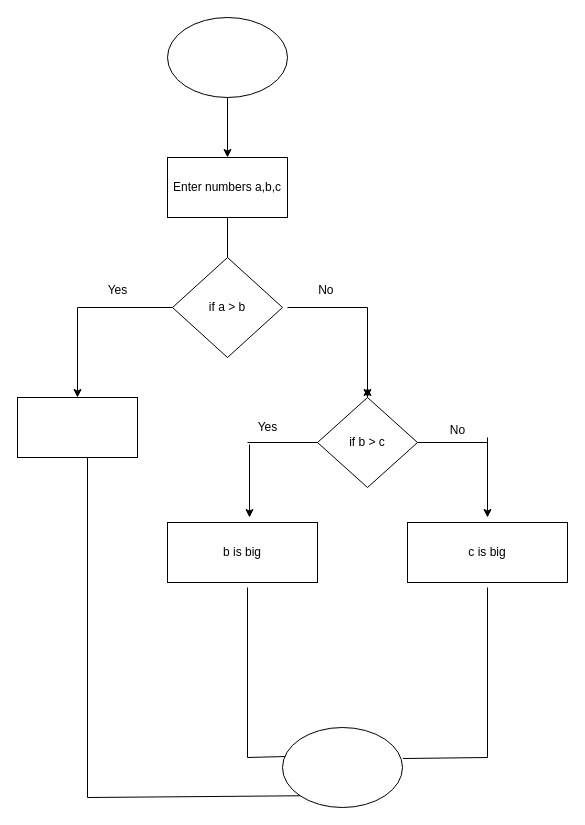
Some shapes in this 585 by 825 pixel diagram are drawn without their labels. Each missing label, with the centre of its shape:
print a is big: the point at 77,427
Start: the point at 227,57
Stop: the point at 342,767
